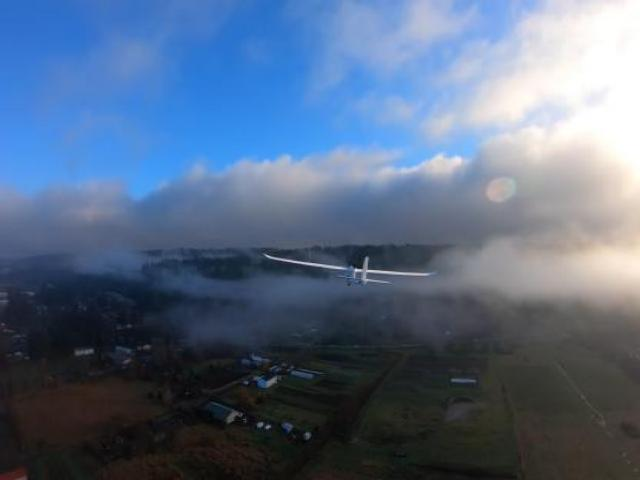uav: (255, 235, 442, 309)
